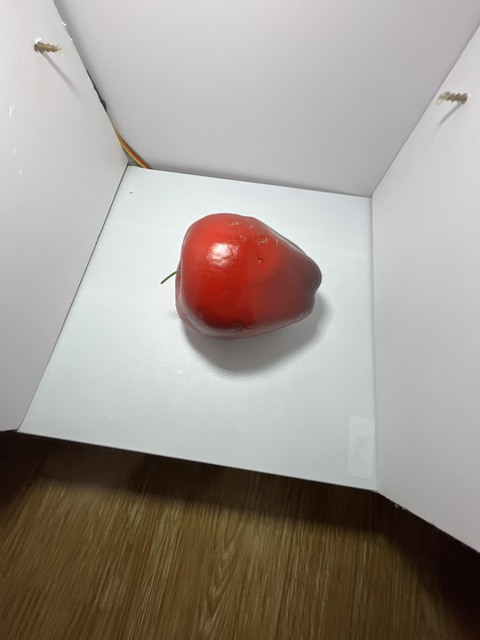Tao: (169, 208, 323, 339)
